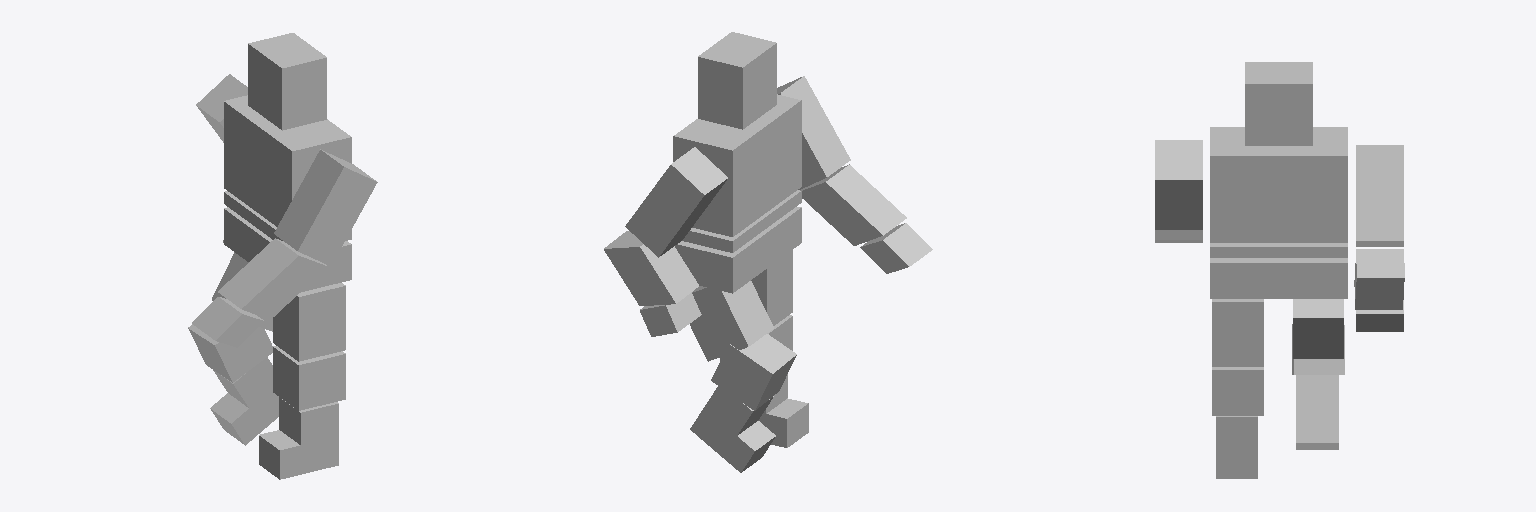
Rendered from POne4.obj.
3 views of the same model, side by side, from view 1: azimuth 30°, elevation 25°; view 2: azimuth 150°, elevation 25°; view 3: azimuth 270°, elevation 25° (orthographic).
Visible parts, largest first — view 1: group4 pasted__group3 pasted__pasted__pCube3 polySurface1, group7 pasted__pCube4 polySurface1, pCube4 polySurface1, pCube1 polySurface1, group8 pasted__pCube4 polySurface1, group2 pasted__pCube2 polySurface1, group5 pasted__pCube1 polySurface1, pCube2 polySurface1, pCube3 polySurface1, group1 pasted__pCube2 polySurface1, group9 pasted__group8 pasted__pasted__pCube4 polySurface1, group6 pasted__pCube4 polySurface1 (+2 smaller); view 2: group4 pasted__group3 pasted__pasted__pCube3 polySurface1, pCube4 polySurface1, group6 pasted__pCube4 polySurface1, pCube3 polySurface1, group8 pasted__pCube4 polySurface1, group2 pasted__group1 pasted__pasted__pCube2 polySurface1, group8 pasted__group6 pasted__pasted__pCube4 polySurface1, group5 pasted__pCube1 polySurface1, group1 pasted__pCube2 polySurface1, group7 pasted__pCube4 polySurface1, group9 pasted__group8 pasted__pasted__pCube4 polySurface1, pCube1 polySurface1 (+3 smaller); view 3: group4 pasted__group3 pasted__pasted__pCube3 polySurface1, pCube4 polySurface1, pCube3 polySurface1, group6 pasted__pCube4 polySurface1, group7 pasted__pCube4 polySurface1, group2 pasted__pCube2 polySurface1, group5 pasted__pCube1 polySurface1, group2 pasted__group1 pasted__pasted__pCube2 polySurface1, group8 pasted__group6 pasted__pasted__pCube4 polySurface1, pCube1 polySurface1, pCube2 polySurface1, group3 pasted__pCube3 polySurface1 (+2 smaller).
Boxes of the visible parts, x1=… form: group4 pasted__group3 pasted__pasted__pCube3 polySurface1: x1=224, y1=95, x2=351, y2=226; group7 pasted__pCube4 polySurface1: x1=274, y1=149, x2=377, y2=265; pCube4 polySurface1: x1=248, y1=33, x2=326, y2=130; pCube1 polySurface1: x1=259, y1=397, x2=338, y2=479; group8 pasted__pCube4 polySurface1: x1=218, y1=238, x2=327, y2=319; group2 pasted__pCube2 polySurface1: x1=273, y1=283, x2=345, y2=361; group5 pasted__pCube1 polySurface1: x1=210, y1=357, x2=278, y2=445; pCube2 polySurface1: x1=273, y1=346, x2=345, y2=410; pCube3 polySurface1: x1=224, y1=207, x2=351, y2=292; group1 pasted__pCube2 polySurface1: x1=188, y1=324, x2=272, y2=382; group9 pasted__group8 pasted__pasted__pCube4 polySurface1: x1=192, y1=297, x2=263, y2=347; group6 pasted__pCube4 polySurface1: x1=196, y1=74, x2=247, y2=142; group4 pasted__group3 pasted__pasted__pCube3 polySurface1: x1=673, y1=94, x2=801, y2=236; pCube4 polySurface1: x1=698, y1=32, x2=776, y2=129; group6 pasted__pCube4 polySurface1: x1=625, y1=147, x2=727, y2=257; pCube3 polySurface1: x1=675, y1=207, x2=801, y2=293; group8 pasted__pCube4 polySurface1: x1=800, y1=164, x2=906, y2=245; group2 pasted__group1 pasted__pasted__pCube2 polySurface1: x1=690, y1=281, x2=773, y2=361; group8 pasted__group6 pasted__pasted__pCube4 polySurface1: x1=604, y1=231, x2=698, y2=305; group5 pasted__pCube1 polySurface1: x1=690, y1=386, x2=775, y2=472; group1 pasted__pCube2 polySurface1: x1=711, y1=334, x2=796, y2=410; group7 pasted__pCube4 polySurface1: x1=777, y1=76, x2=850, y2=189; group9 pasted__group8 pasted__pasted__pCube4 polySurface1: x1=860, y1=223, x2=932, y2=273; pCube1 polySurface1: x1=758, y1=374, x2=808, y2=447; group4 pasted__group3 pasted__pasted__pCube3 polySurface1: x1=1210, y1=127, x2=1347, y2=242; pCube4 polySurface1: x1=1245, y1=62, x2=1312, y2=145; pCube3 polySurface1: x1=1210, y1=258, x2=1347, y2=298; group6 pasted__pCube4 polySurface1: x1=1356, y1=145, x2=1403, y2=246; group7 pasted__pCube4 polySurface1: x1=1155, y1=140, x2=1202, y2=229; group2 pasted__pCube2 polySurface1: x1=1212, y1=299, x2=1263, y2=366; group5 pasted__pCube1 polySurface1: x1=1296, y1=375, x2=1338, y2=449; group2 pasted__group1 pasted__pasted__pCube2 polySurface1: x1=1293, y1=299, x2=1343, y2=358; group8 pasted__group6 pasted__pasted__pCube4 polySurface1: x1=1354, y1=249, x2=1404, y2=309; pCube1 polySurface1: x1=1216, y1=416, x2=1257, y2=478; pCube2 polySurface1: x1=1212, y1=367, x2=1263, y2=415; group3 pasted__pCube3 polySurface1: x1=1210, y1=243, x2=1347, y2=257.
Bounding box in the file's own units: 3.48 × 6.39 × 3.65.